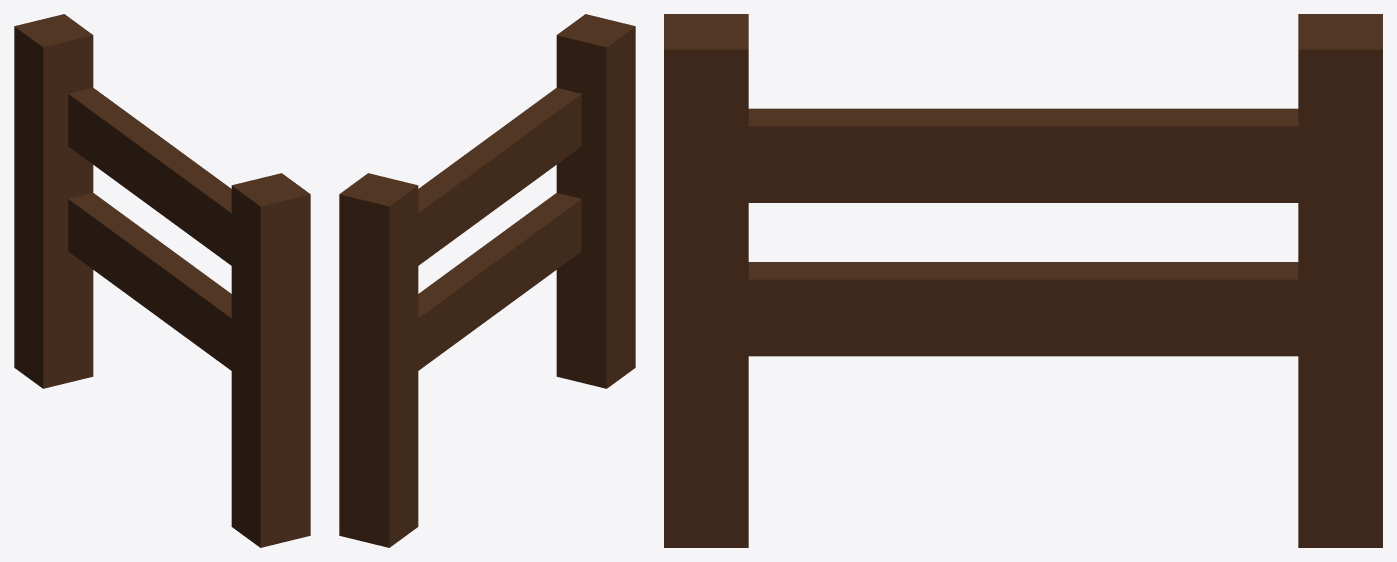
Rendered from fence00.fbx.
3 views of the same model, side by side, from view 1: azimuth 30°, elevation 25°; view 2: azimuth 150°, elevation 25°; view 3: azimuth 270°, elevation 25° (orthographic). The views are drawn at different scales.
Parts seen in each view (by area): view 1: house1-7; view 2: house1-7; view 3: house1-7.
Boxes of the visible parts, x1,y1,x2,y2 form: house1-7: (14,14,310,547); house1-7: (339,14,635,547); house1-7: (664,14,1382,547).
Bounding box in the file's own units: 200 × 1300 × 1700.
